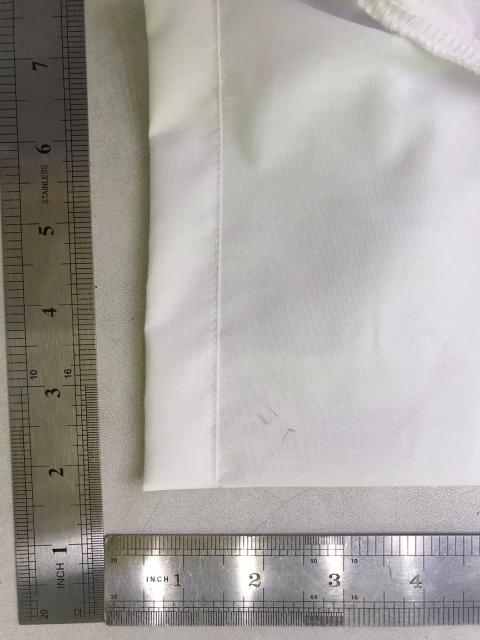Dirty_mark: (256, 405, 298, 444)
